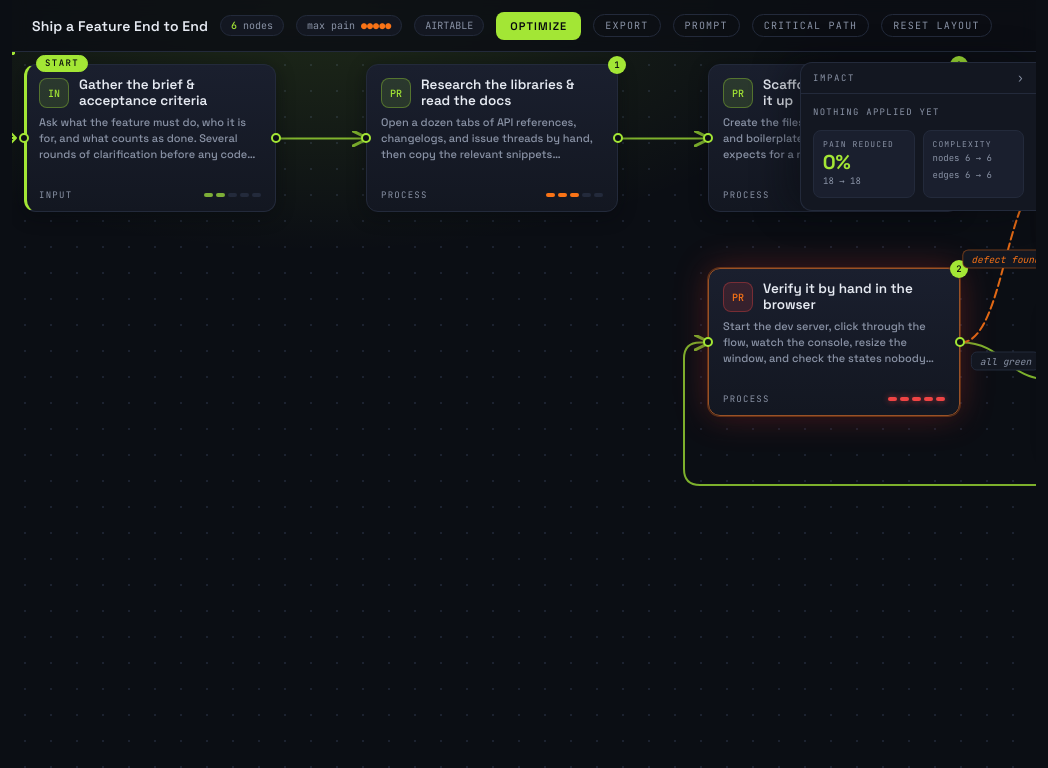
Scenario: opens only once the pointer has rested the intent delay out
Step 1. Hover over the element with test id "sg-node" that starts with "Research the libraries & read the docs" → (492, 138), box [366, 64, 618, 212]
Wait 150 ms
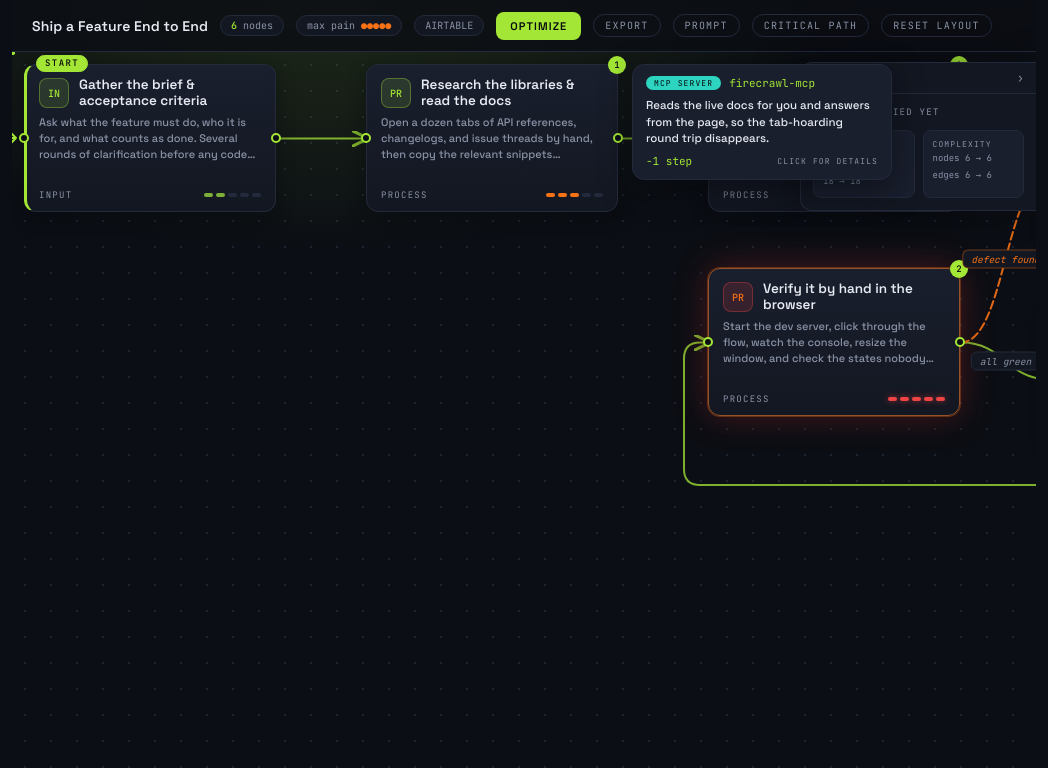
Expected: the element with test id "sg-peek" shows "firecrawl-mcp", [729, 76, 815, 90]
